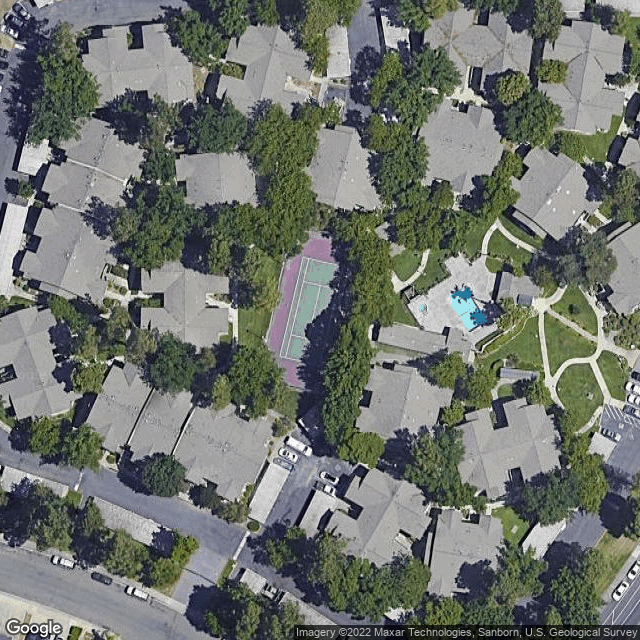Court: (278, 256, 352, 368)
